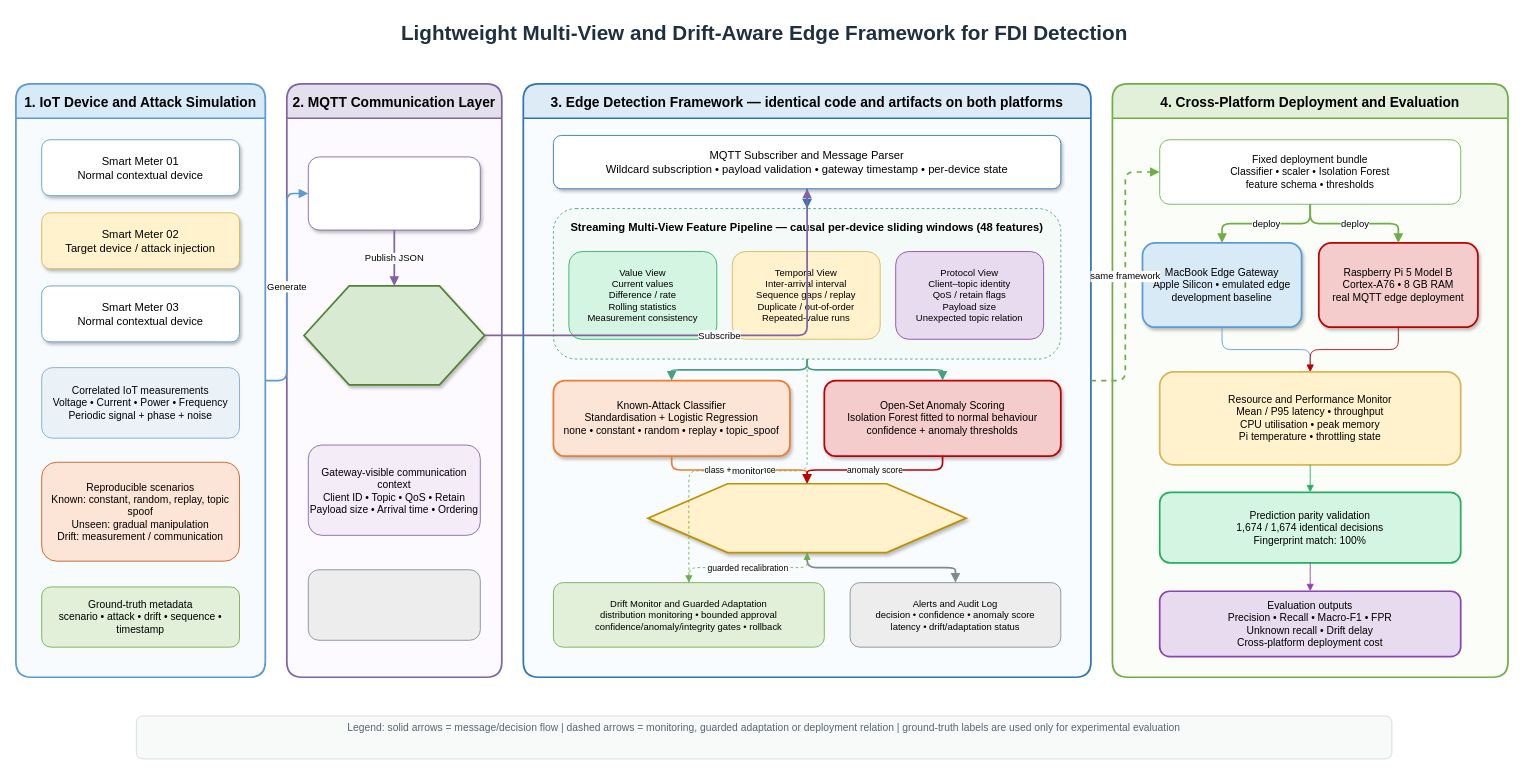
Image size: 1523x774. Some labels were removed from this diagram. The shapes that lost their labels are listed below. From the top down, each one's centre as x and y in pixels, then its label:
At point (394, 194): "MQTT Publisher JSON payload per device cycle QoS 0 • retain=false".
At point (394, 336): "Mosquitto MQTT Broker grid/substation_01/ {device_id}/measurement".
At point (807, 519): "Decision Engine Normal • Known FDI Attack • Unknown Anomaly • Uncertain".
At point (393, 604): "Private LAN testbed Matched interval: 0.5 s Nominal input: 6 messages/s".
